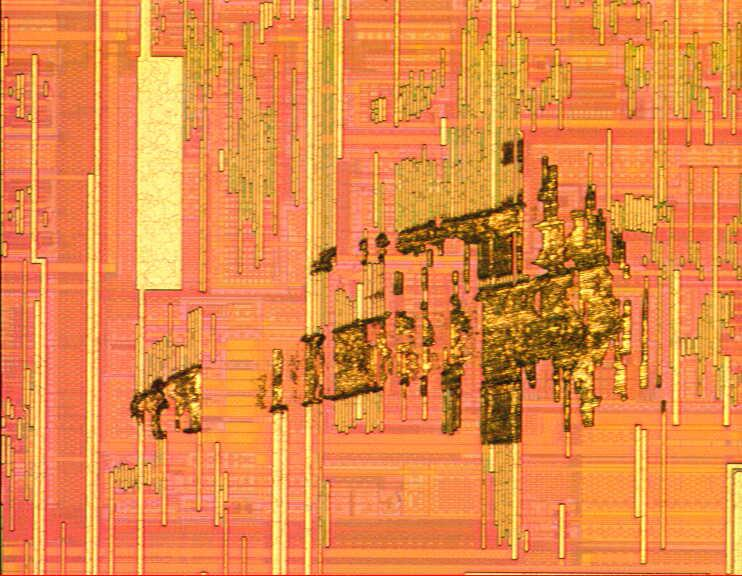BLOCK ETCH: (118, 130, 658, 463)
